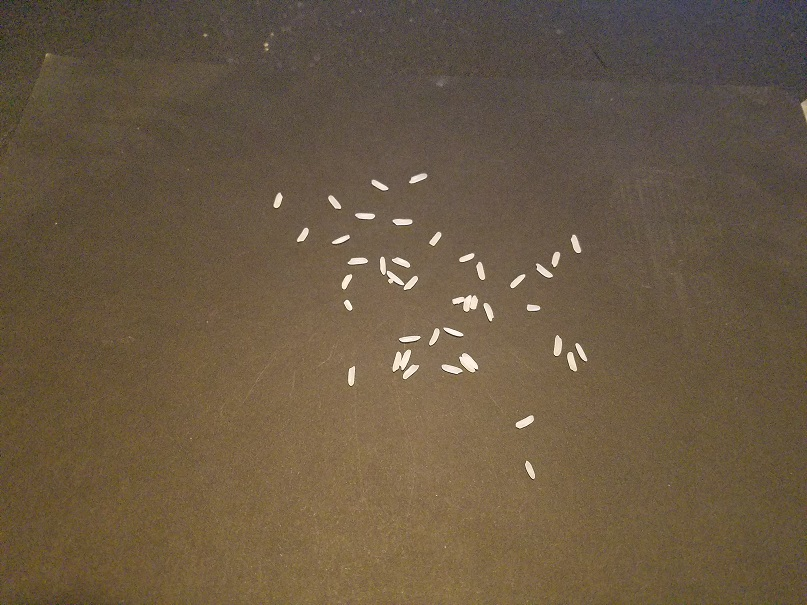egg: (463, 350, 481, 369), (534, 261, 554, 278), (514, 414, 536, 429), (575, 339, 589, 362), (386, 269, 406, 285), (408, 170, 430, 184), (326, 193, 344, 210), (399, 348, 413, 369), (402, 364, 419, 381), (403, 274, 420, 291), (459, 355, 475, 373), (566, 351, 579, 373), (568, 232, 582, 252), (339, 271, 353, 291), (483, 301, 496, 322), (509, 273, 527, 288), (371, 177, 389, 192), (441, 363, 463, 375), (331, 232, 351, 245), (296, 226, 312, 242), (427, 229, 442, 246), (391, 350, 402, 373), (524, 459, 536, 480), (428, 326, 440, 347), (475, 260, 487, 281), (391, 255, 412, 267), (442, 326, 464, 337), (390, 216, 414, 226), (398, 334, 424, 343), (458, 250, 475, 263), (271, 192, 284, 209), (553, 334, 562, 357), (346, 255, 369, 264), (471, 292, 480, 313), (354, 211, 375, 220), (550, 250, 561, 267), (342, 298, 354, 312), (347, 367, 355, 386), (379, 255, 387, 272), (525, 303, 541, 311), (451, 295, 465, 304), (465, 292, 471, 310), (387, 277, 395, 285)
